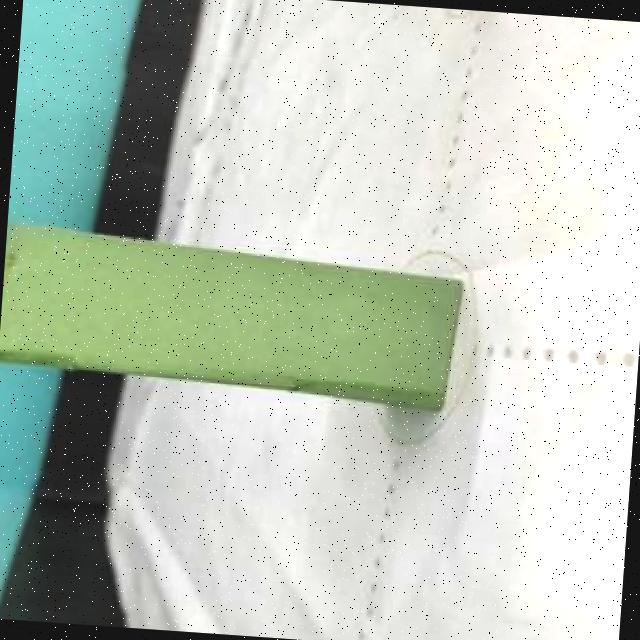greenbox: (0, 219, 463, 408)
